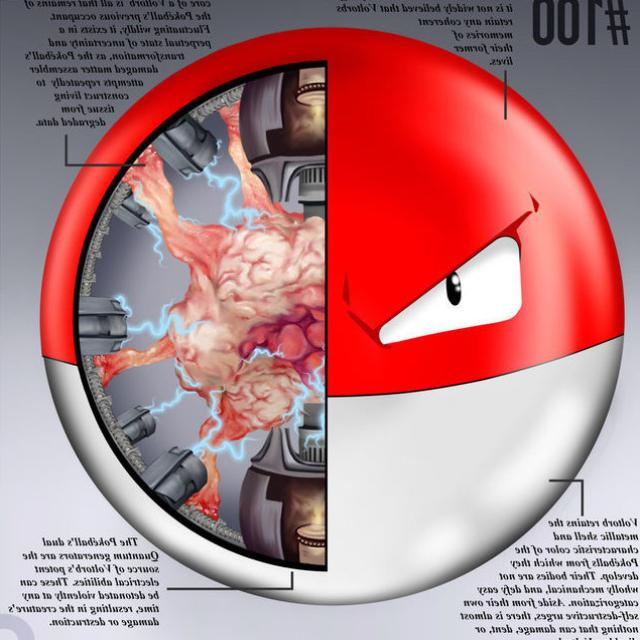Voltorb: (22, 32, 634, 604)
